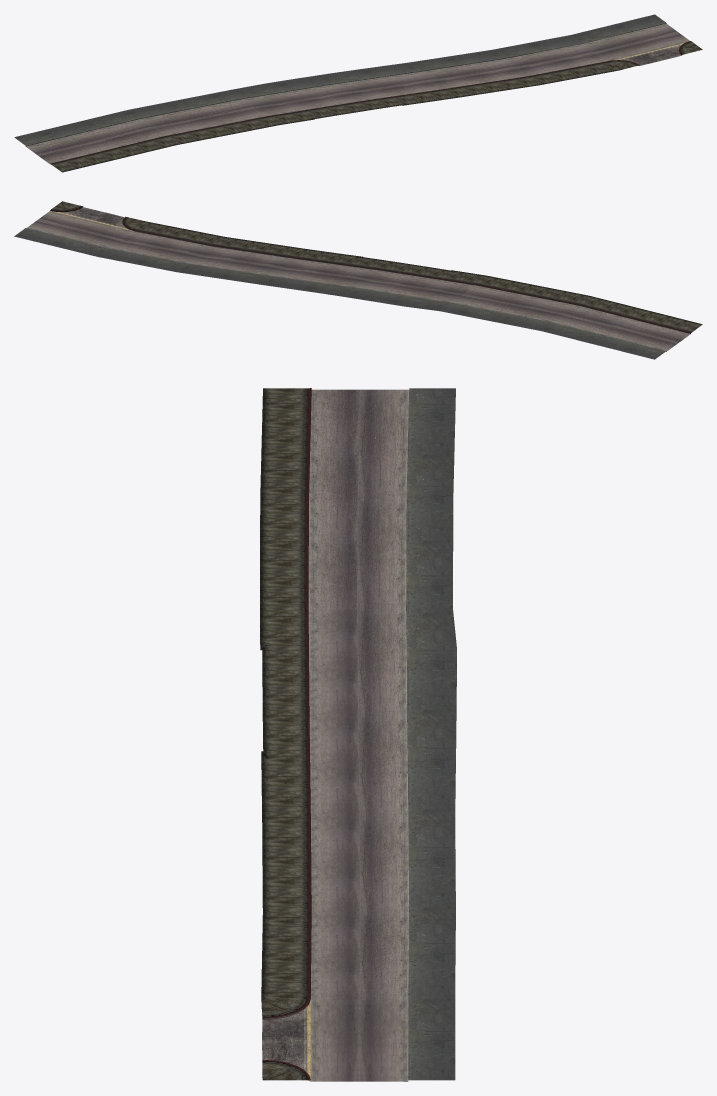
Rendered from lae2_roads41.obj.
3 renders of one model, top to bottom at view 1: azimuth 30°, elevation 25°; view 2: azimuth 150°, elevation 25°; view 3: azimuth 270°, elevation 25°, orthographic. The views are drawn at different scales.
Parts seen in each view (by area): view 1: Lae2_roads41; view 2: Lae2_roads41; view 3: Lae2_roads41.
Boxes of the visible parts, x1,y1,x2,y2 form: Lae2_roads41: (14,14,702,172); Lae2_roads41: (14,201,702,359); Lae2_roads41: (260,388,456,1081).
Size of the model in its own units: 152 by 7.78 by 20.23.
